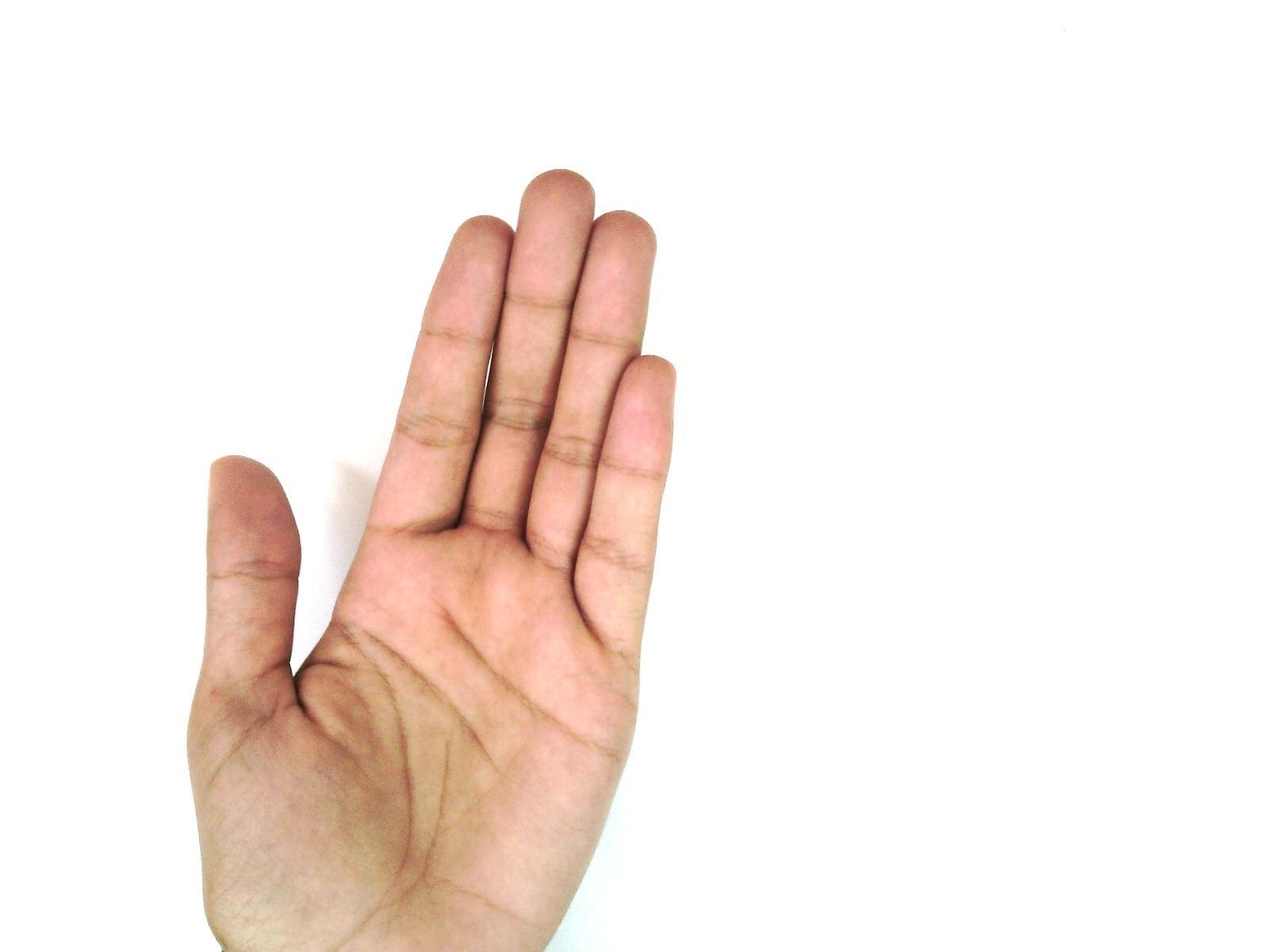open_palm: (185, 167, 680, 951)
